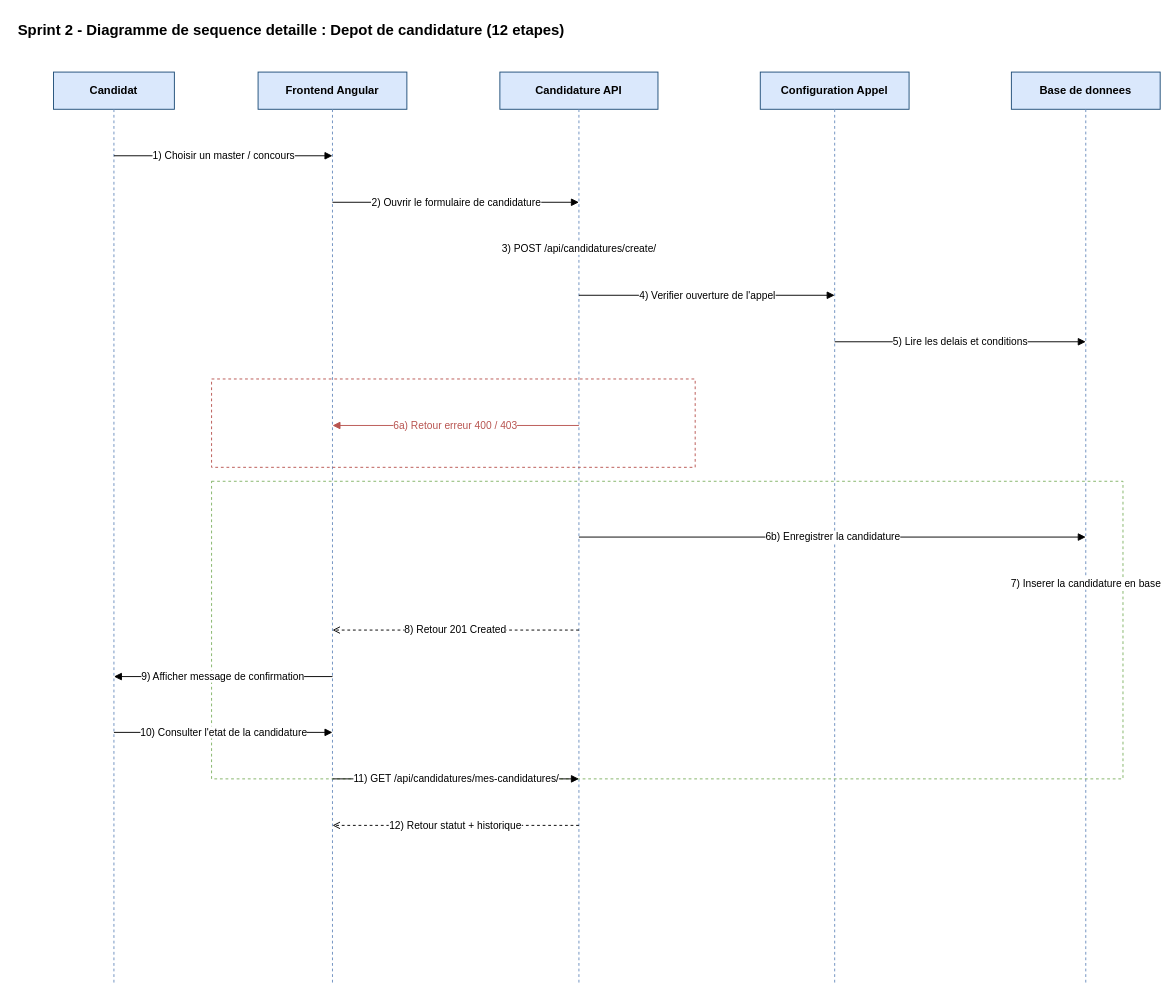
Some shapes in this 1176 by 1001 pixel diagram are drawn without their labels. Each missing label, with the centre of its shape:
alt [hors periode ou donnees invalides]: point (453, 422)
else [candidature valide]: point (667, 629)
